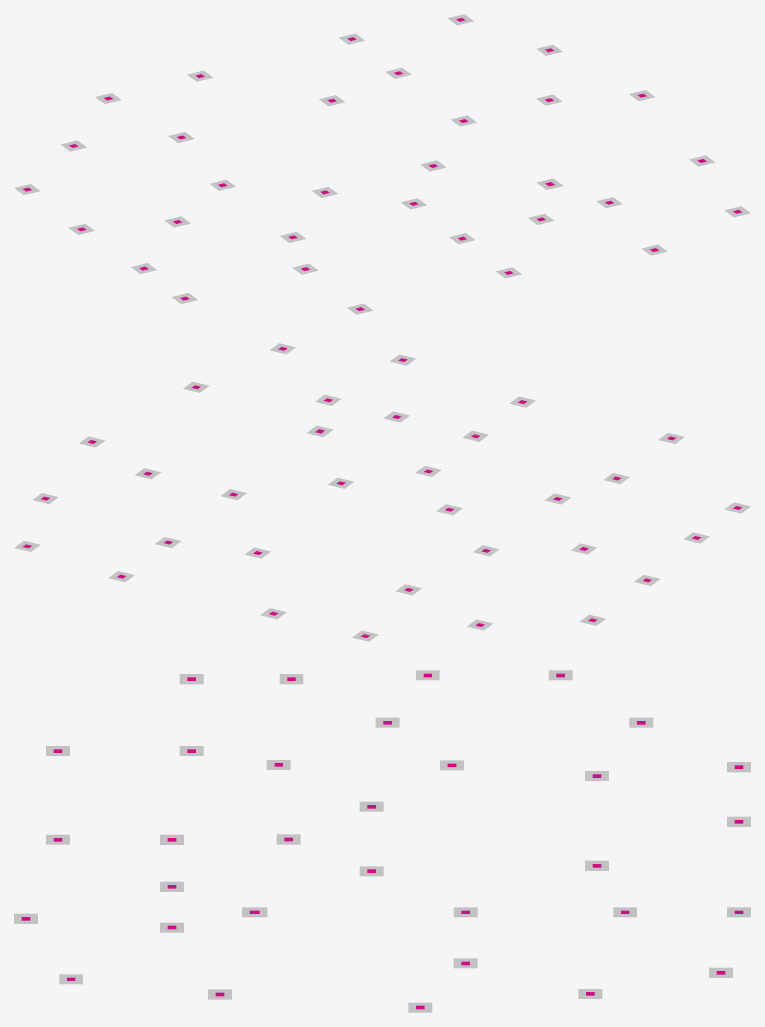
Rendered from Target_Points.fbx.
3 views of the same model, one above another, from view 1: azimuth 30°, elevation 25°; view 2: azimuth 150°, elevation 25°; view 3: azimuth 270°, elevation 25° (orthographic). The views are drawn at different scales.
Parts seen in each view (by area): view 1: Target_Points; view 2: Target_Points; view 3: Target_Points.
Boxes of the visible parts, x1,y1,x2,y2 form: Target_Points: (14,14,750,314); Target_Points: (14,343,750,641); Target_Points: (14,670,750,1012).
Size of the model in its own units: 6326 by 0 by 5755.
